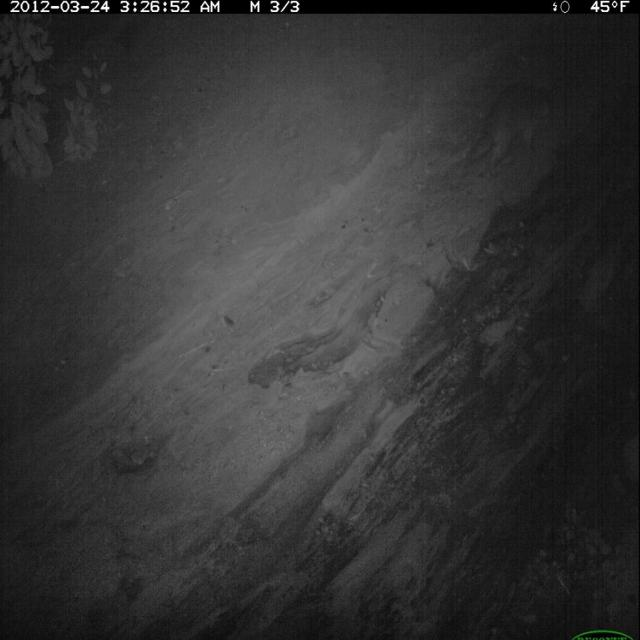raccoon: (460, 75, 566, 179)
